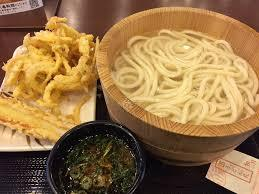bukkake: (100, 10, 259, 129)
kakiage: (9, 16, 95, 91)
